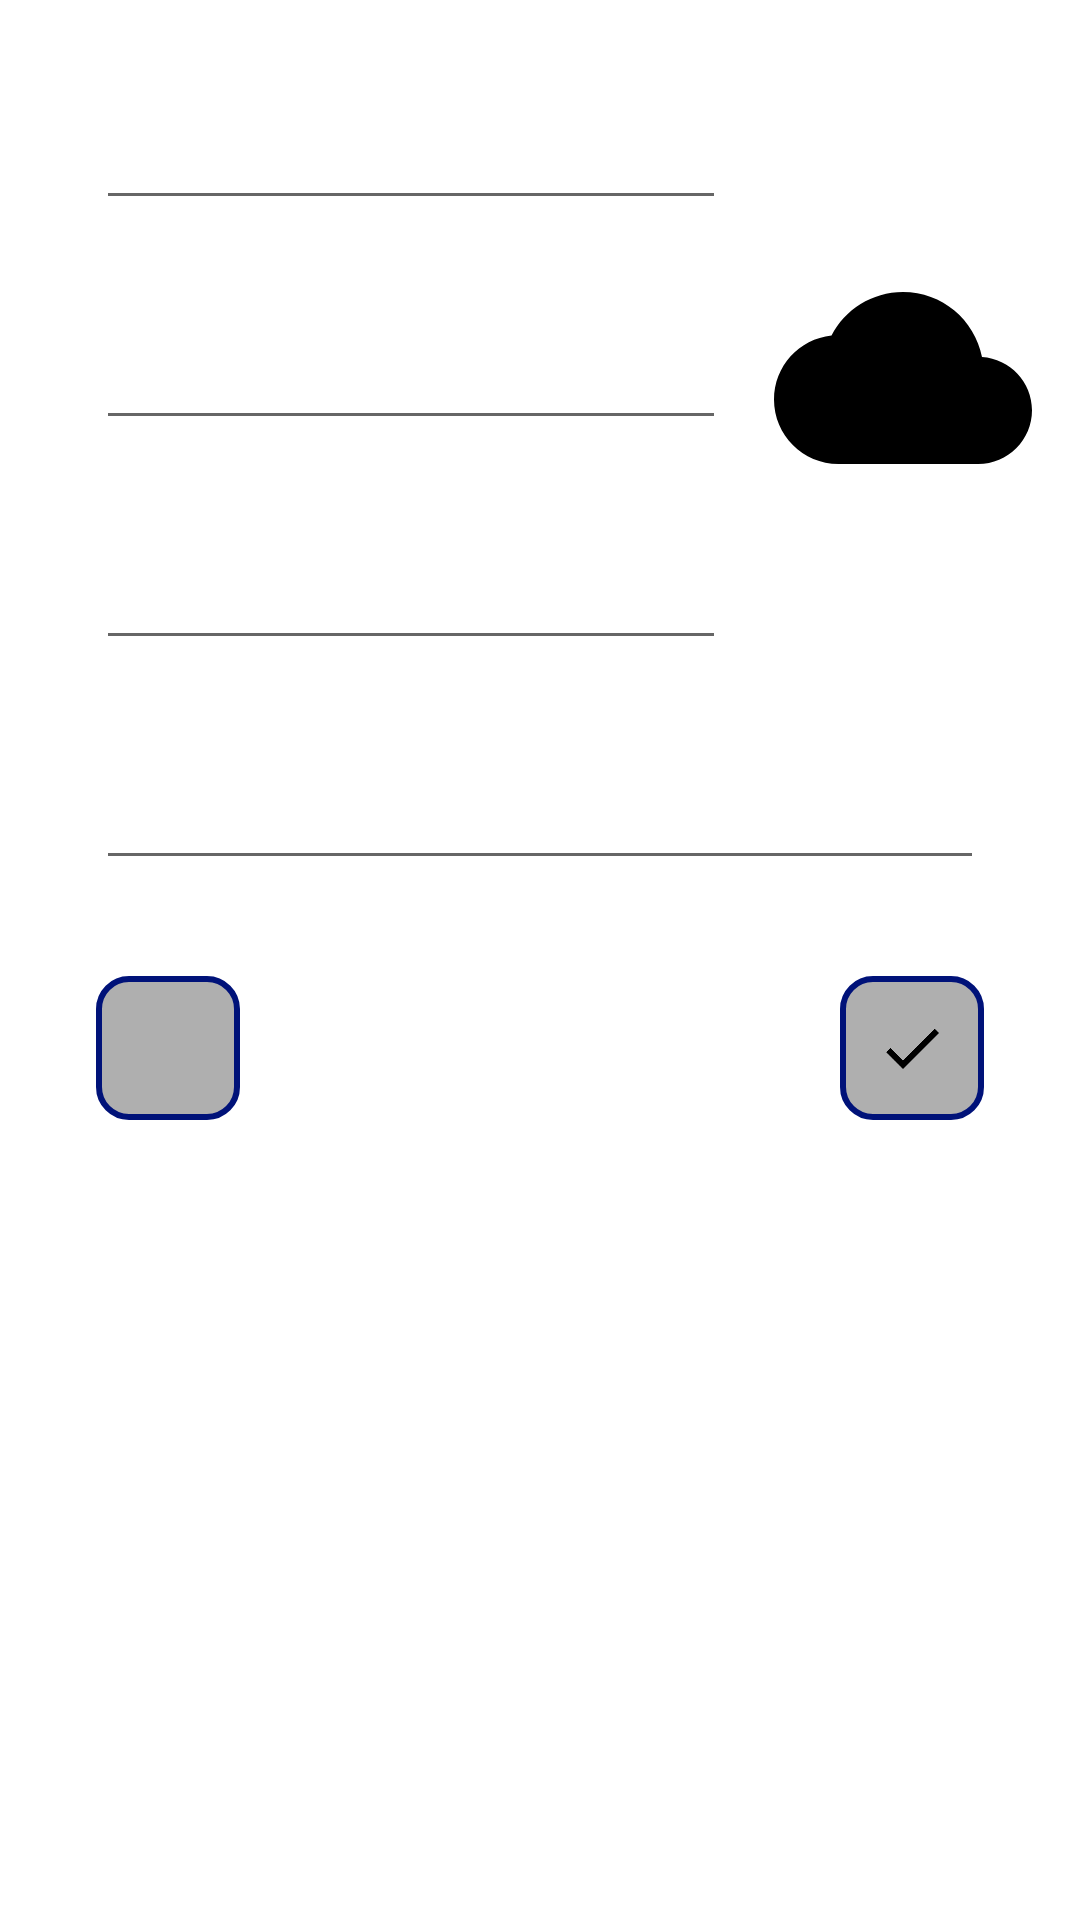

Point at icon controls on the screen. Image size 1080 x 1920, points as (x=x, y=y).
done: (x=912, y=1048)
weather: (x=903, y=378)
